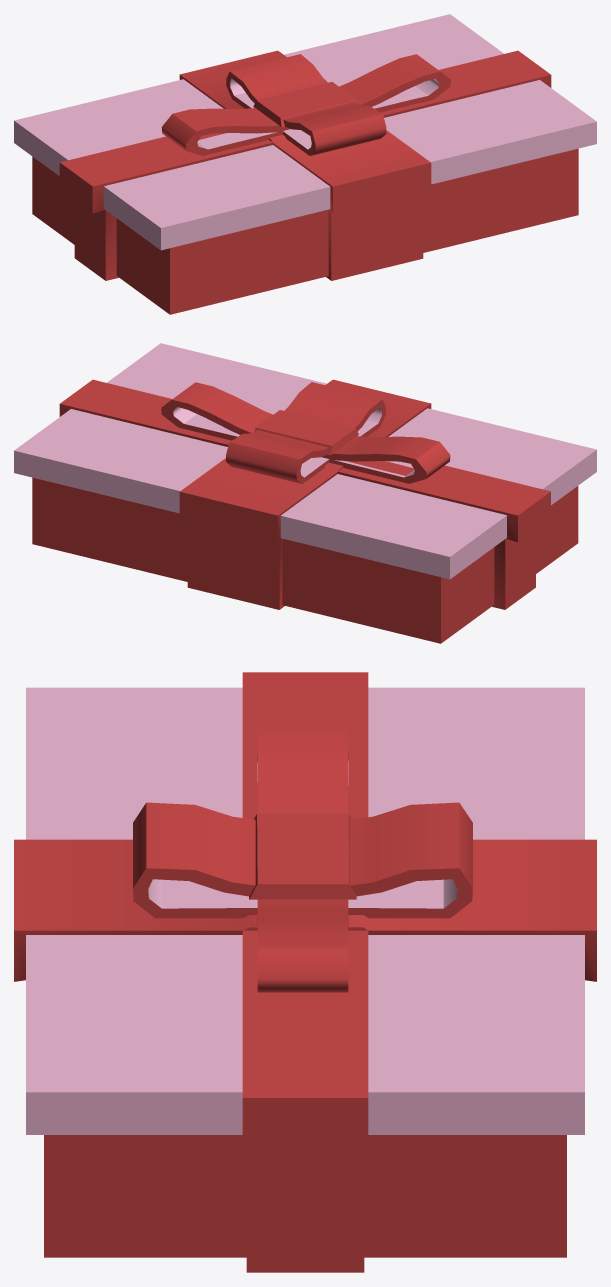
Rendered from Giftbox1-1.fbx.
3 renders of one model, top to bottom at view 1: azimuth 30°, elevation 25°; view 2: azimuth 150°, elevation 25°; view 3: azimuth 270°, elevation 25°, orthographic. The views are drawn at different scales.
Parts seen in each view (by area): view 1: Box023; view 2: Box023; view 3: Box023.
Boxes of the visible parts, x1,y1,x2,y2 form: Box023: (14,14,596,314); Box023: (14,343,596,643); Box023: (14,672,596,1272).
Bounding box in the file's own units: 55.36 × 14.42 × 32.06.
